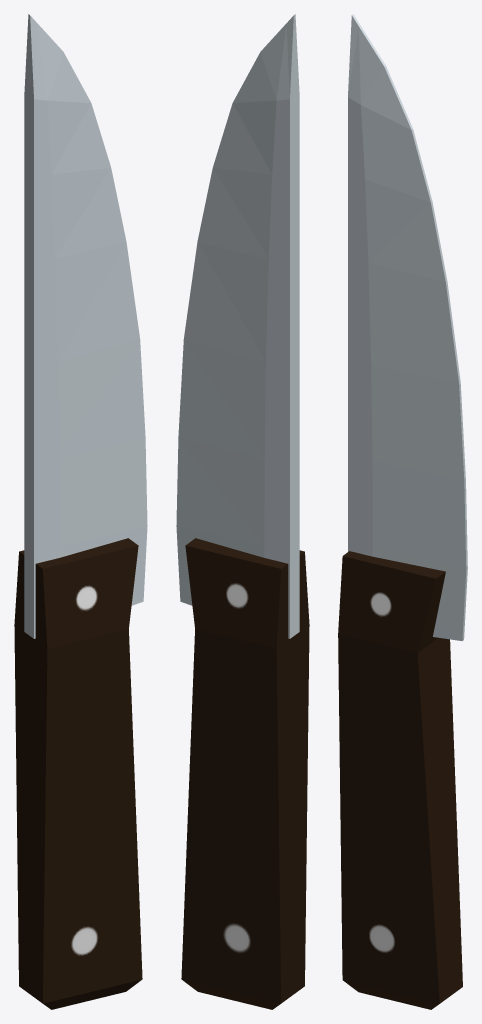
File: Kitchen Knife.dae
The picture shows the model from 3 angles, left to right: view 1: azimuth 30°, elevation 25°; view 2: azimuth 150°, elevation 25°; view 3: azimuth 330°, elevation 25°; orthographic projection. The views are drawn at different scales.
Visible parts, largest first — view 1: Cube.005; view 2: Cube.005; view 3: Cube.005.
Boxes of the visible parts, <box> form: Cube.005: <box>14,14,147,1009</box>; Cube.005: <box>176,14,309,1009</box>; Cube.005: <box>338,14,467,1009</box>.
Size of the model in its own units: 0.0368 by 0.0179 by 0.2977.
2 materials, 1 textured.
